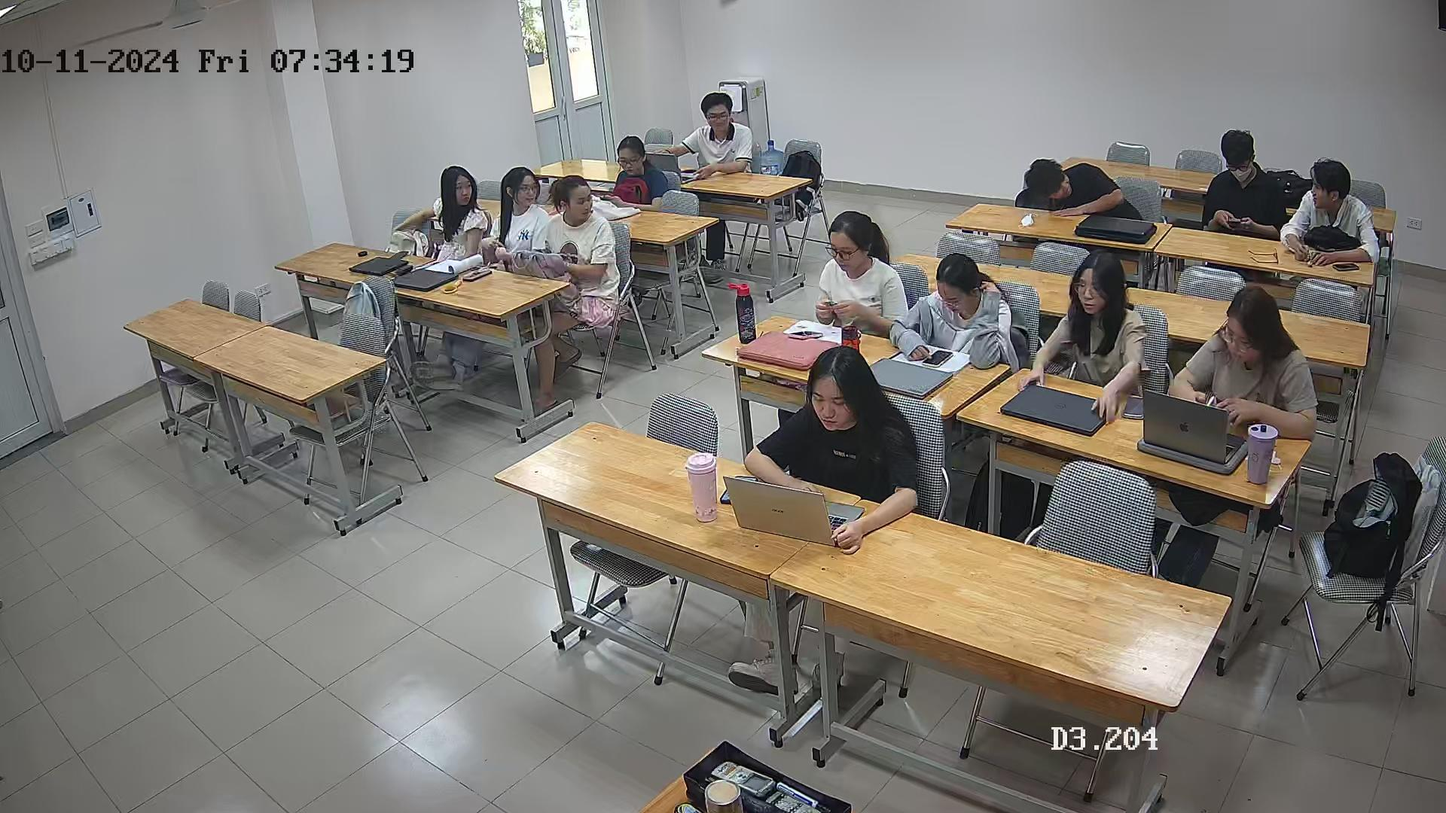Bend Over The Desk: (1006, 142, 1134, 223)
Look Around: (1297, 140, 1377, 262), (548, 175, 609, 273), (429, 154, 479, 244), (502, 157, 541, 245)
phone: (907, 324, 966, 378), (1220, 199, 1256, 232)
